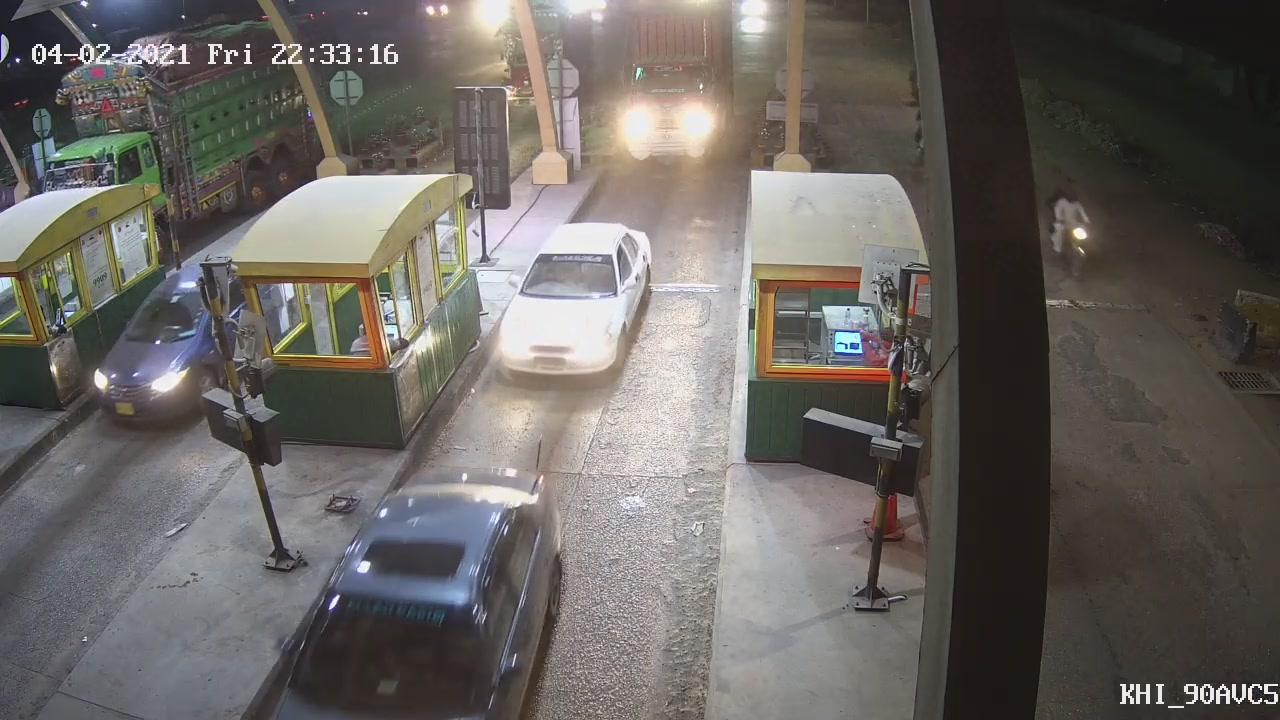F1: (489, 220, 658, 386)
